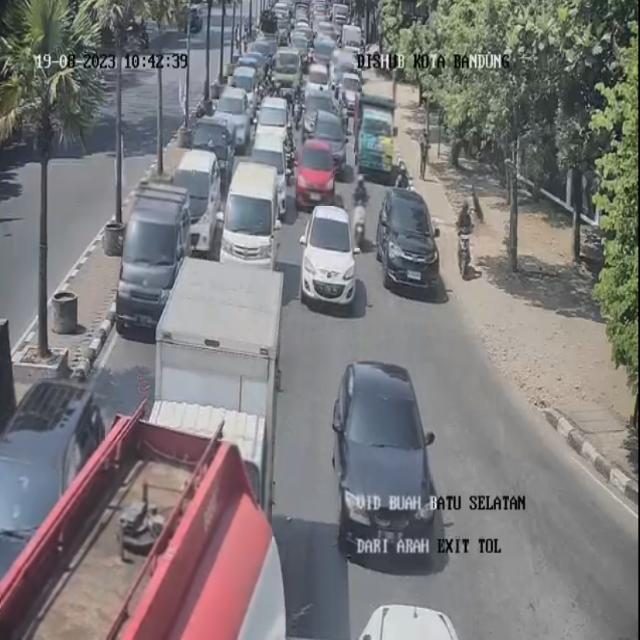cars: (0, 378, 105, 573), (335, 358, 433, 556), (123, 171, 192, 325), (301, 203, 360, 310), (222, 157, 280, 265), (378, 186, 432, 290), (350, 602, 482, 640), (176, 152, 220, 250), (251, 128, 287, 213), (192, 111, 232, 176), (298, 134, 333, 206), (316, 108, 346, 170), (219, 87, 250, 147), (305, 68, 331, 132), (260, 96, 288, 152), (234, 65, 258, 109), (311, 81, 335, 125), (274, 47, 299, 88), (306, 62, 329, 102), (315, 33, 335, 70), (334, 48, 352, 84), (243, 54, 265, 82), (342, 71, 362, 100), (293, 23, 311, 55), (321, 22, 337, 46), (338, 70, 358, 86)
motorcycle: (454, 198, 478, 278), (351, 174, 372, 248), (395, 158, 410, 193)
truck: (1, 441, 272, 640), (156, 255, 284, 520), (356, 71, 398, 178)
